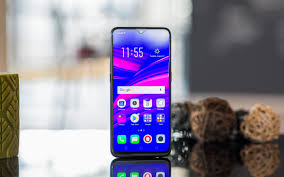oppo: (106, 23, 172, 160)
